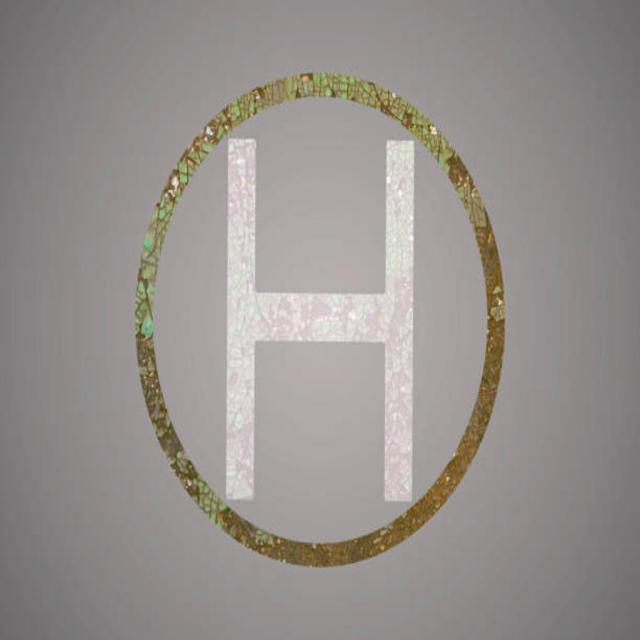helipad: (129, 70, 505, 569)
